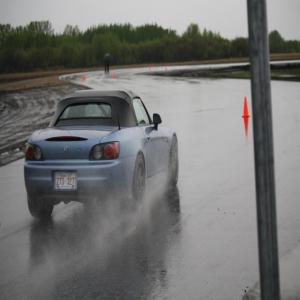Vehicle-registration-plate: (55, 173, 76, 190)
